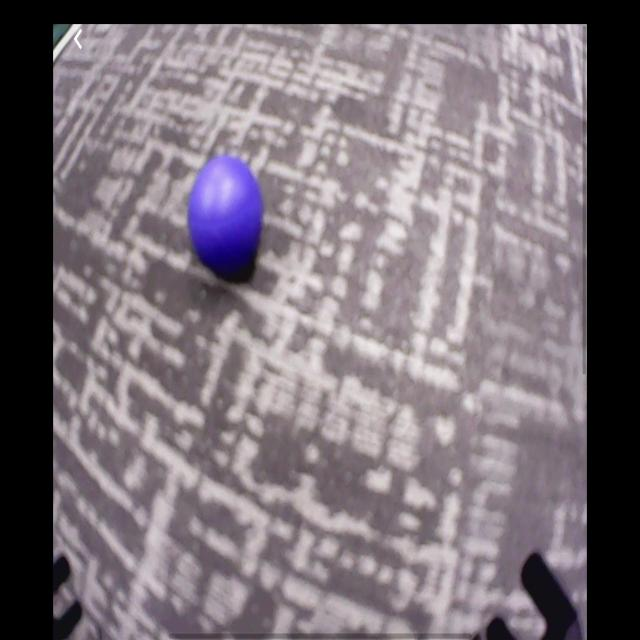ball: (188, 157, 265, 273)
